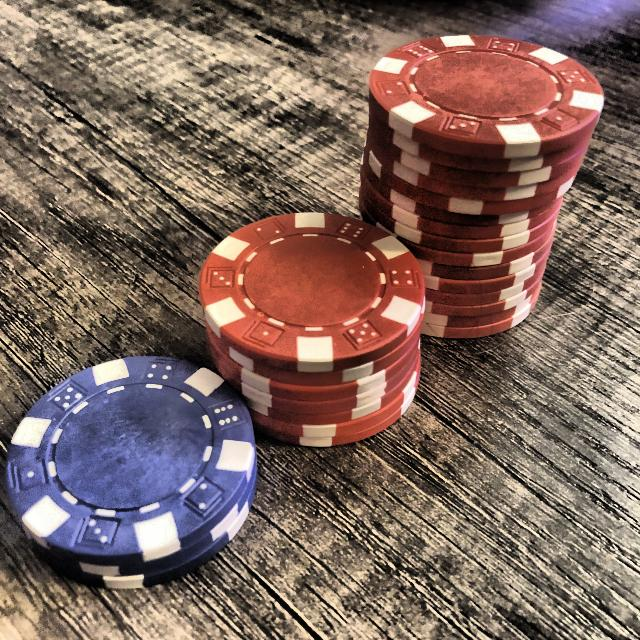Chip: (368, 30, 606, 342), (8, 357, 262, 588), (195, 208, 426, 451)
